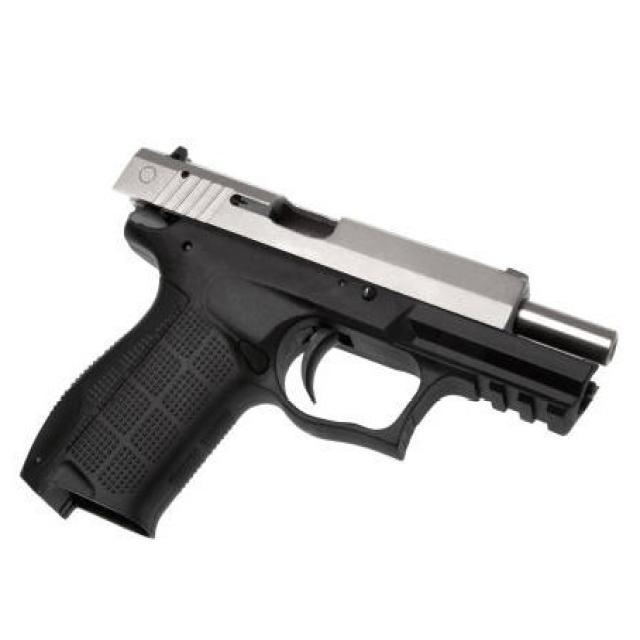pistol: (19, 139, 625, 560)
